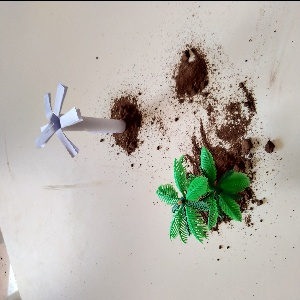plant: (154, 145, 246, 242)
weed: (160, 144, 251, 239), (36, 91, 123, 155)
